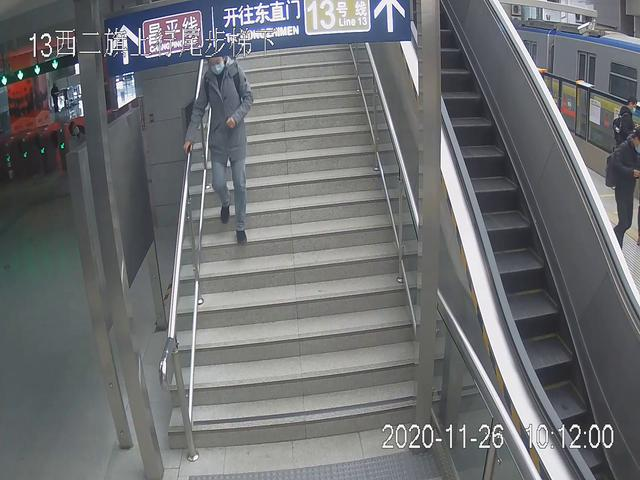person: (178, 49, 258, 248)
